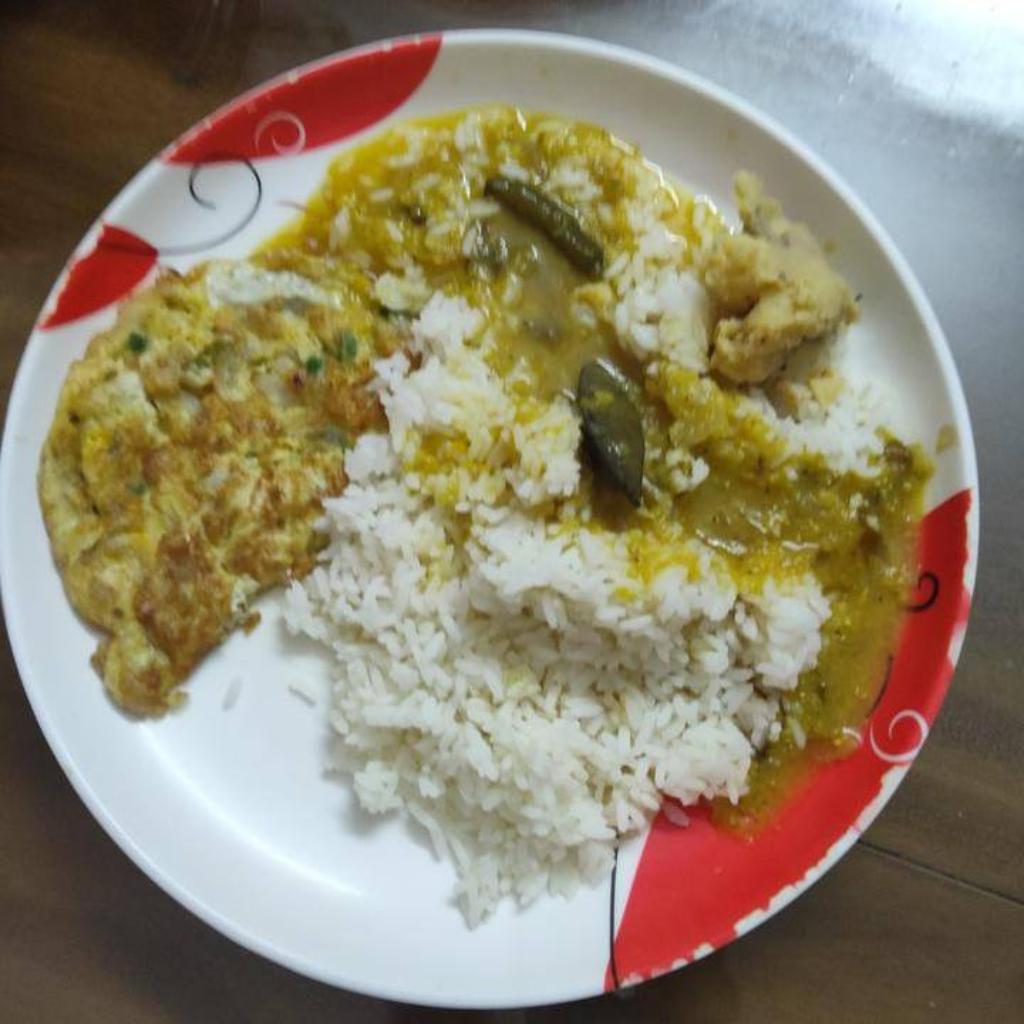egg-poached: (37, 257, 388, 722)
potato-mashed: (705, 172, 870, 376)
rice: (284, 118, 900, 919)
